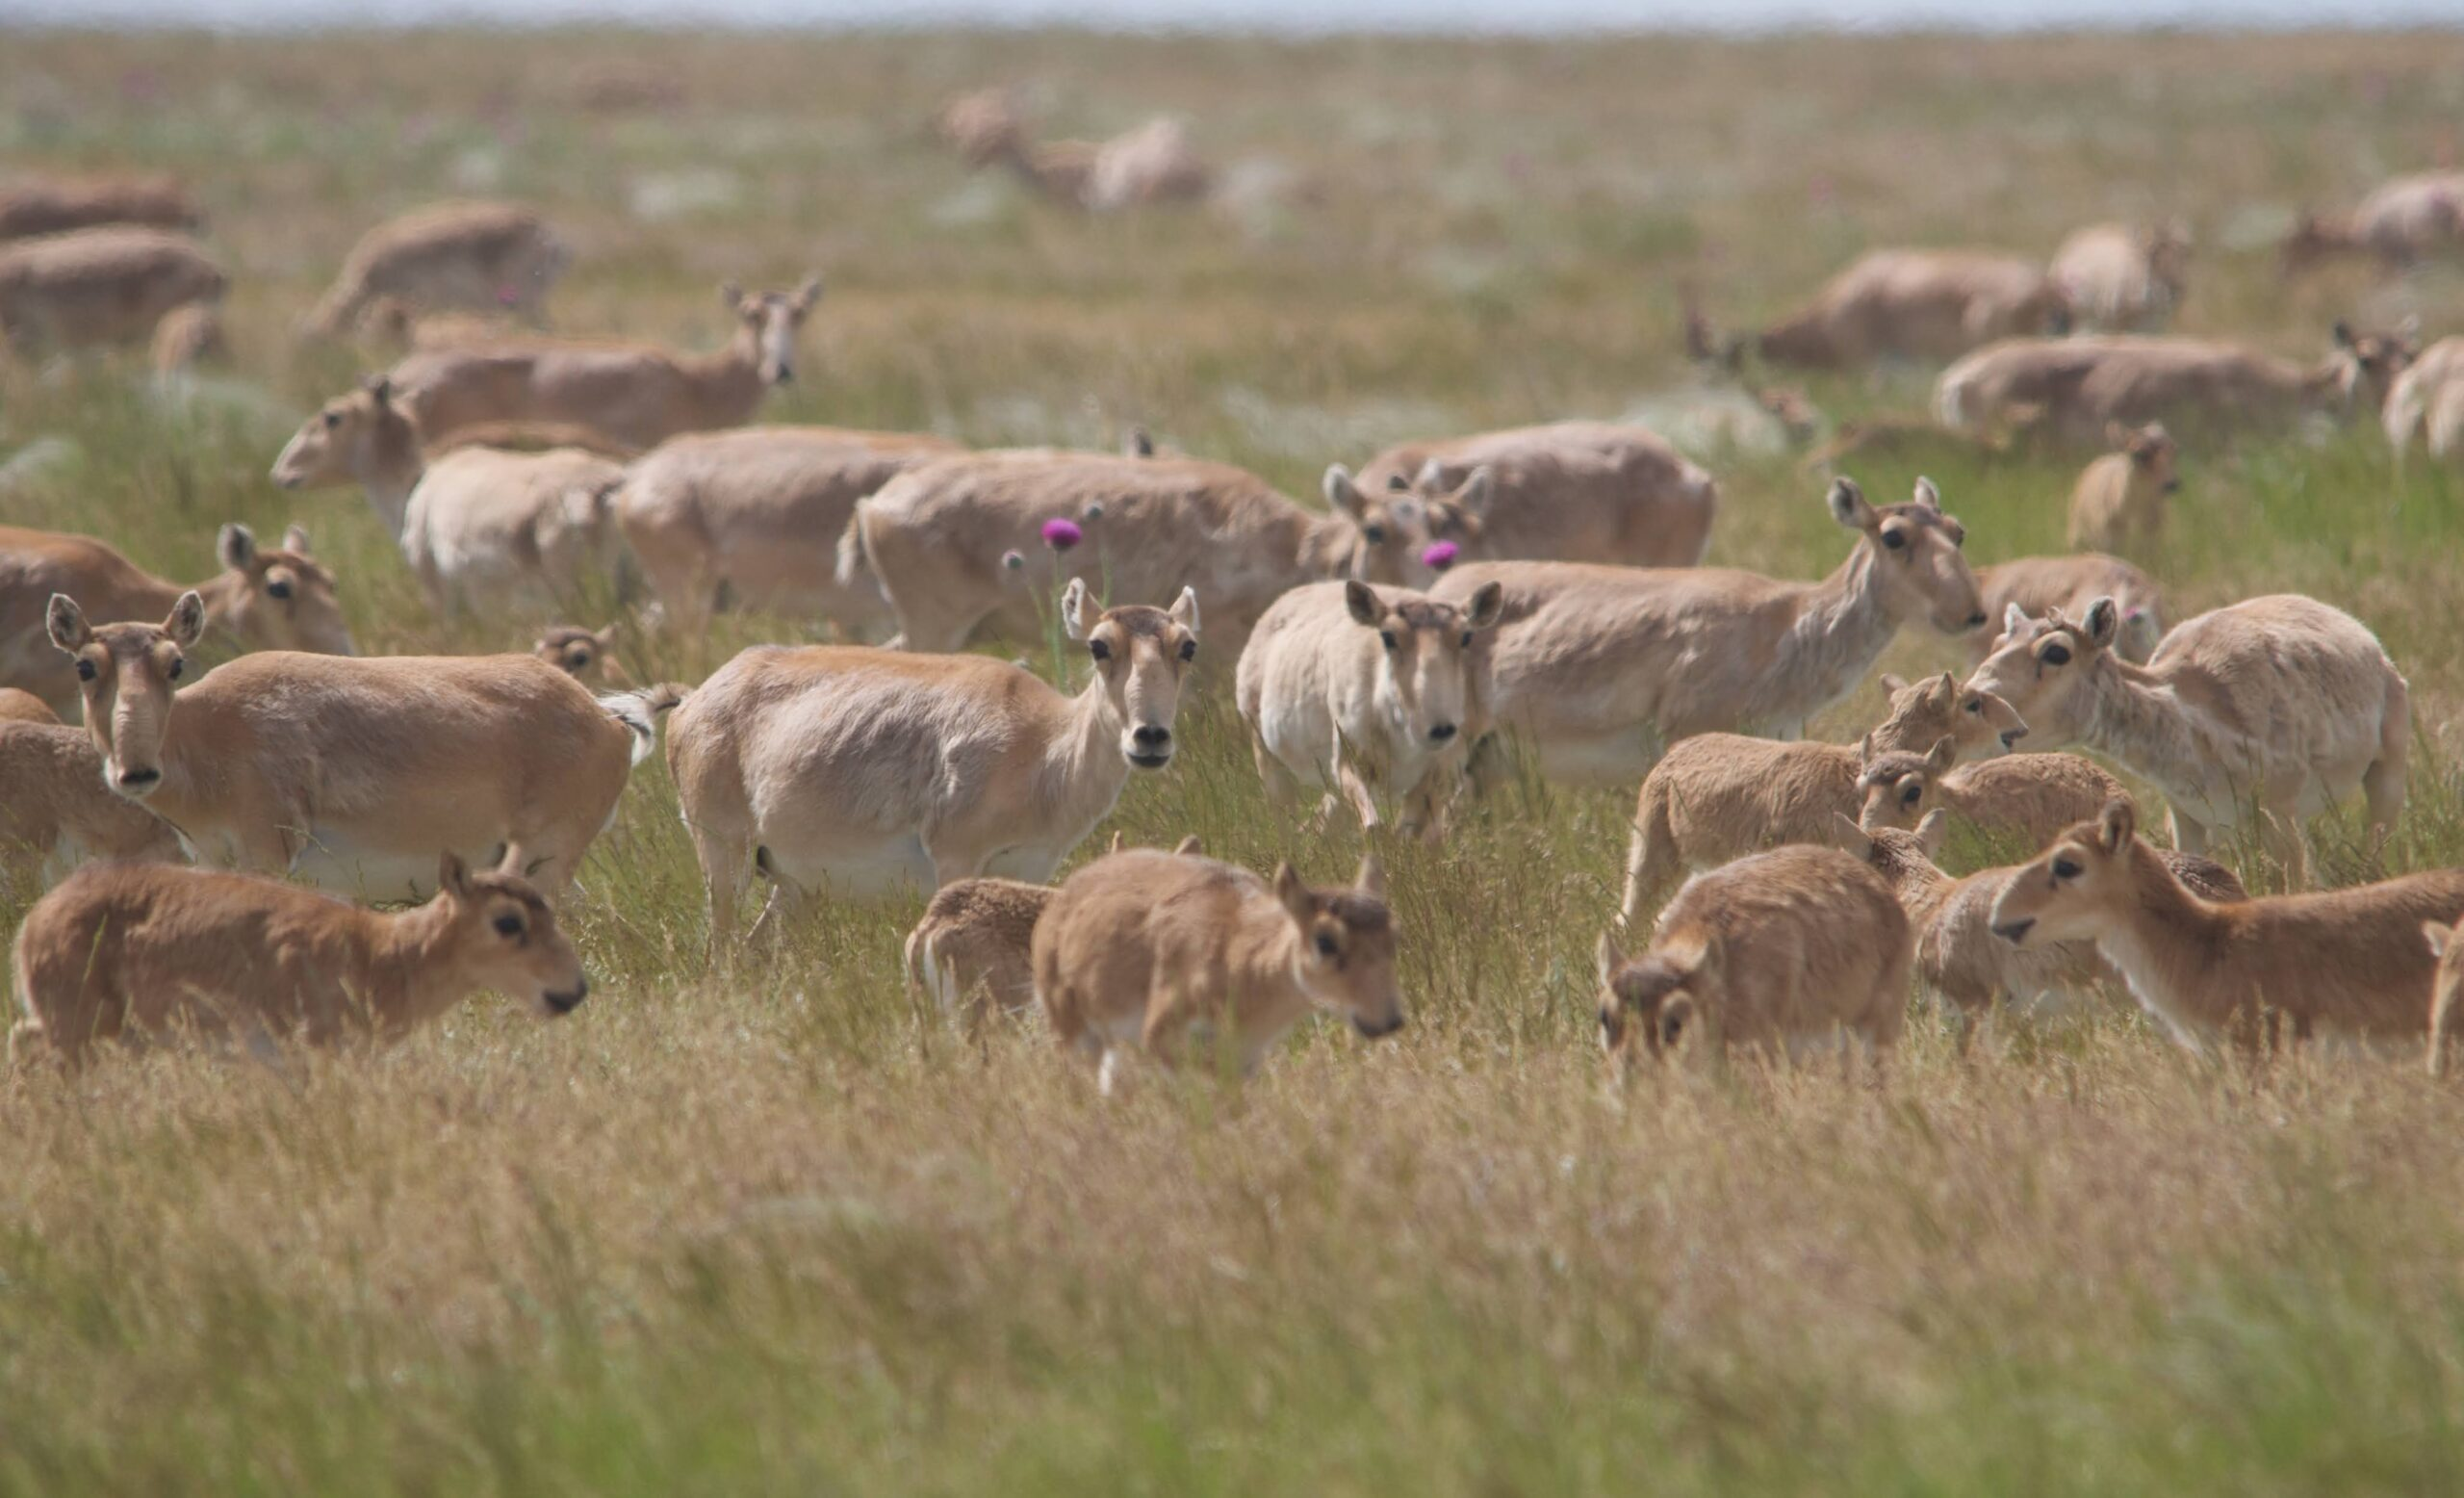saiga: (665, 579, 1220, 915), (37, 581, 628, 873), (12, 847, 598, 1112), (1980, 806, 2464, 1065), (1966, 586, 2445, 829), (1461, 516, 1984, 725), (1575, 857, 1932, 1134), (1044, 850, 1424, 1100), (1236, 569, 1500, 875)
